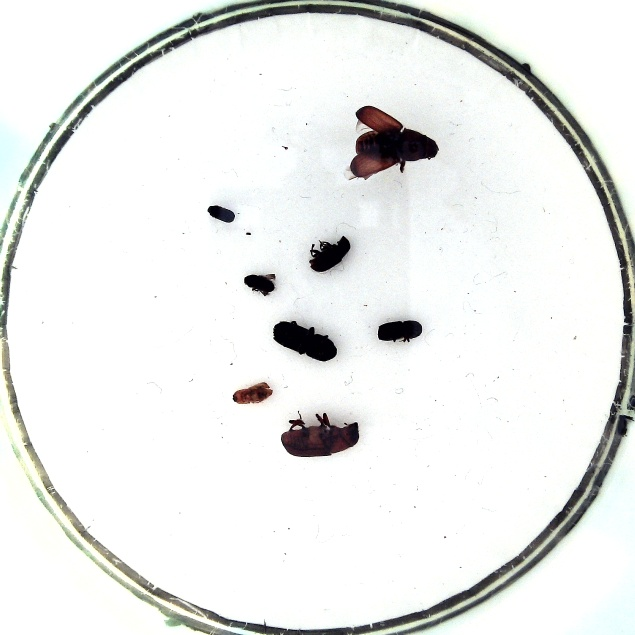acuminatus: (243, 275, 275, 293)
armandi: (309, 235, 351, 272)
boerner: (272, 321, 337, 362)
coleoptera: (232, 382, 272, 404), (208, 205, 235, 222)
leconte: (355, 128, 439, 162), (281, 422, 359, 456)
linnaeus: (376, 320, 422, 341)
